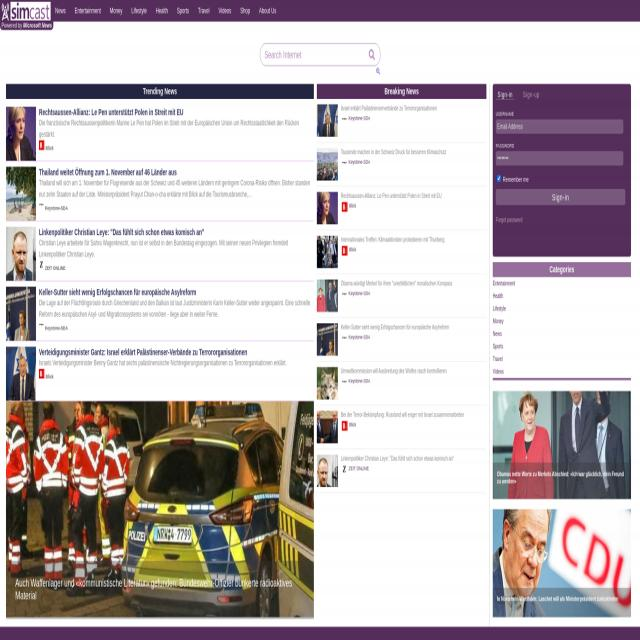button: (6, 400, 314, 618), (493, 509, 631, 616), (494, 391, 630, 499), (496, 189, 625, 206), (6, 286, 36, 341), (6, 346, 36, 401), (6, 106, 36, 160), (6, 227, 36, 281), (6, 167, 36, 220), (0, 1, 50, 21), (316, 104, 338, 142), (316, 147, 338, 185), (316, 192, 338, 230), (316, 236, 338, 274), (316, 279, 338, 317), (316, 323, 338, 361), (316, 366, 338, 404), (316, 454, 338, 492), (316, 411, 338, 448), (70, 2, 106, 20), (255, 2, 281, 20), (127, 2, 151, 20), (105, 2, 127, 20), (172, 2, 194, 20), (214, 2, 236, 20), (50, 2, 70, 20), (152, 2, 172, 20), (194, 2, 214, 20), (236, 2, 254, 20), (521, 90, 542, 100), (496, 90, 514, 100), (39, 140, 45, 150), (342, 202, 348, 212), (342, 246, 348, 256), (39, 368, 45, 378), (342, 421, 348, 431), (39, 200, 44, 210), (342, 464, 347, 474), (342, 115, 347, 124), (342, 158, 347, 167), (39, 260, 44, 269), (39, 320, 44, 329), (342, 333, 347, 342), (342, 377, 347, 386), (342, 290, 347, 298)
field: (260, 44, 380, 64), (496, 150, 624, 164), (496, 120, 623, 134), (496, 174, 530, 183)
